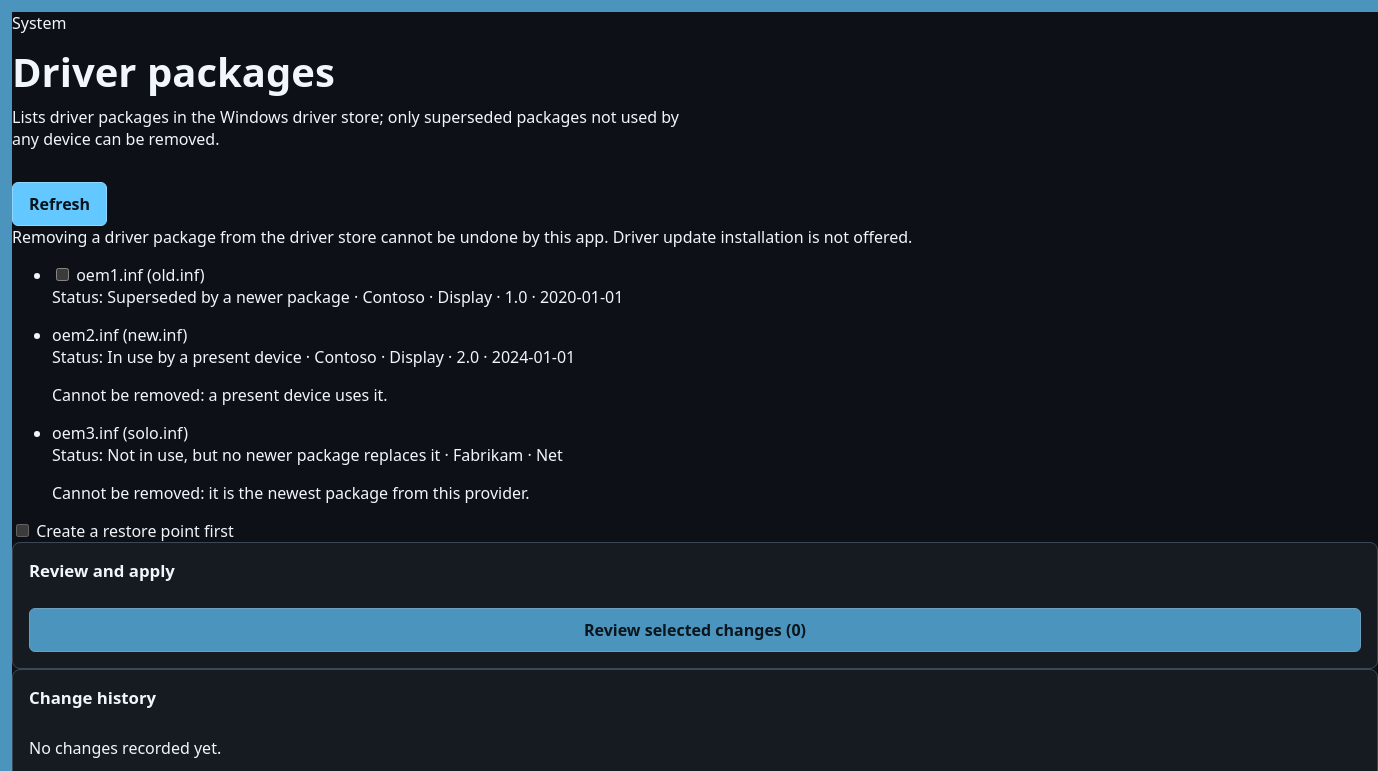
Scenario: re-checks the restore point by default after the selection is emptied and made again
Click the checkbox labelled "oem1.inf (old.inf)" at (62, 274), box 56,268 -> 69,281
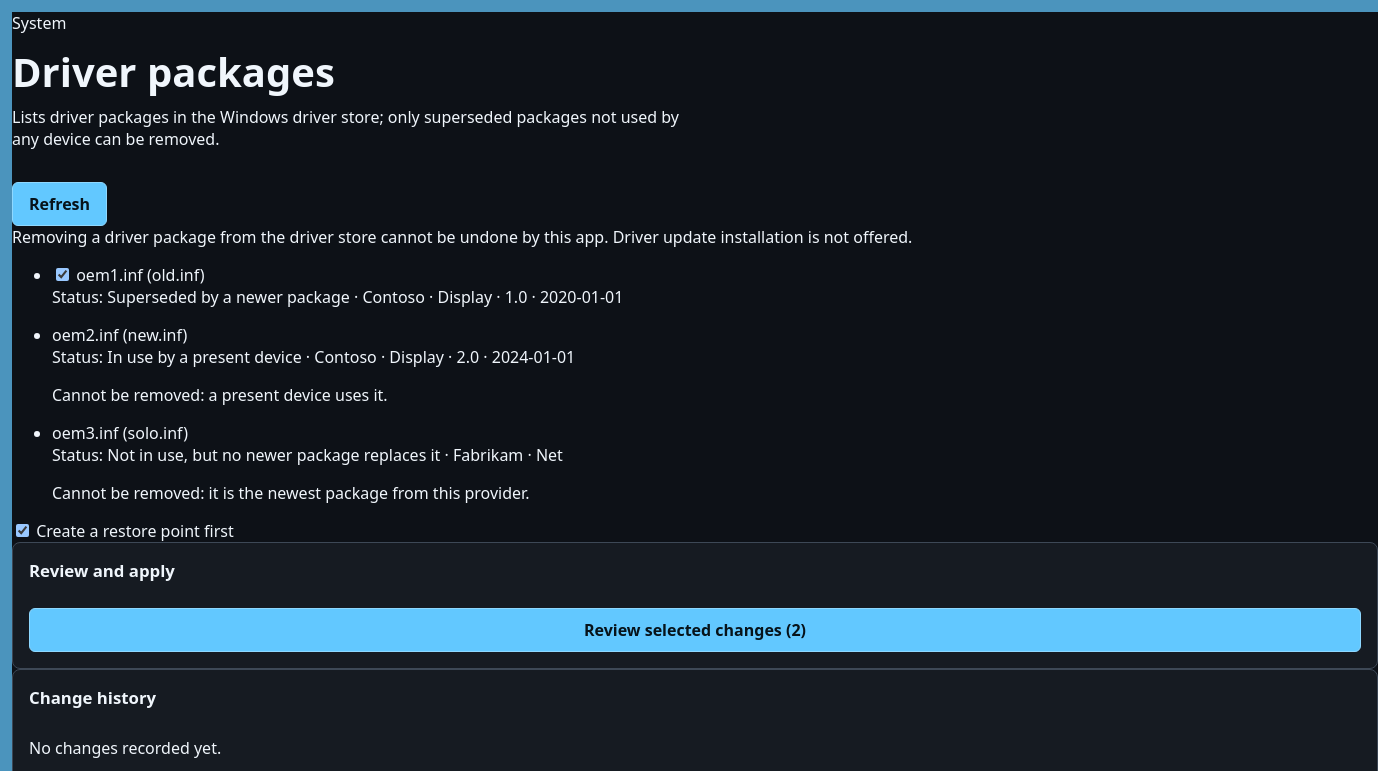
Click the checkbox labelled "Create a restore point first" at (22, 530), box 16,524 -> 29,537
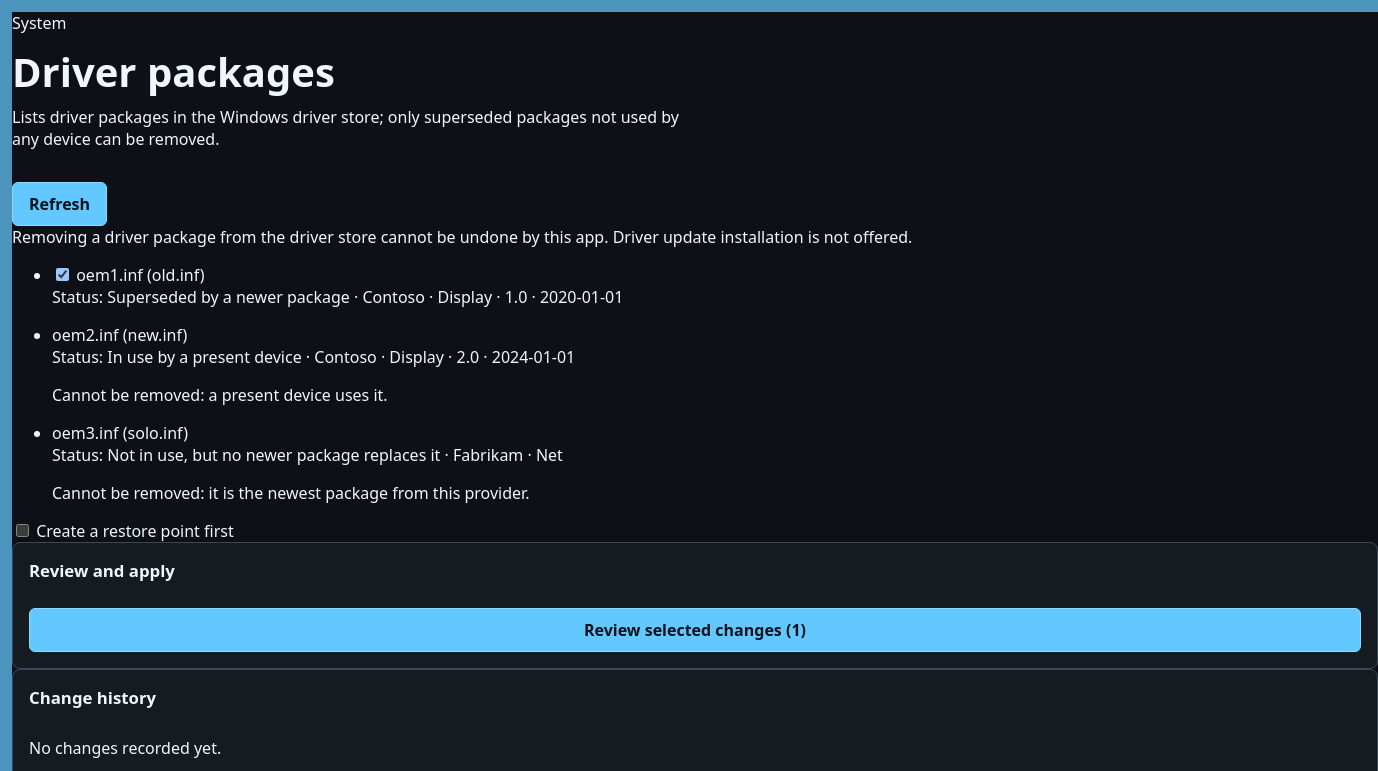
Expected: the checkbox labelled "Create a restore point first" is not checked, 16,524 -> 29,537
Click the checkbox labelled "oem1.inf (old.inf)" at (62, 274), box 56,268 -> 69,281
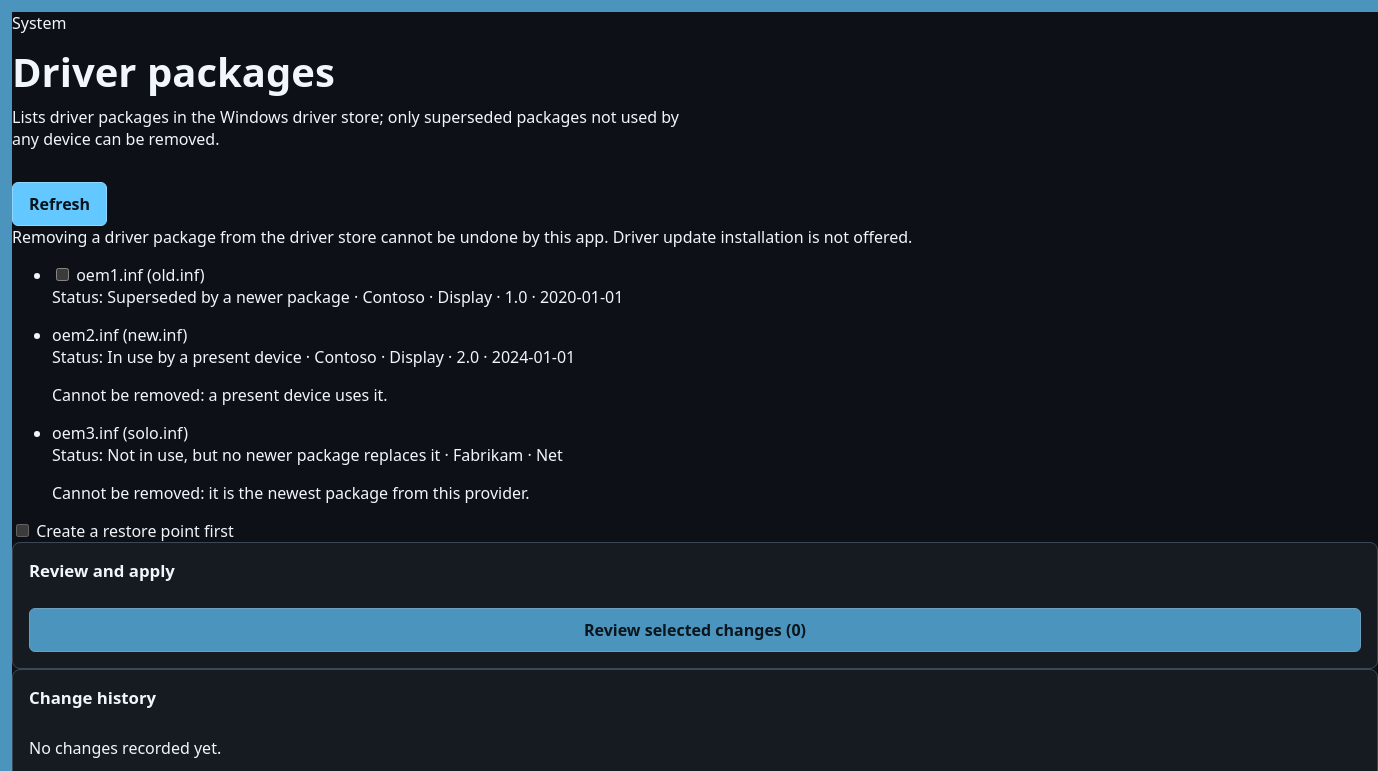
Expected: the checkbox labelled "Create a restore point first" is not checked, 16,524 -> 29,537
Click the checkbox labelled "oem1.inf (old.inf)" at (62, 274), box 56,268 -> 69,281
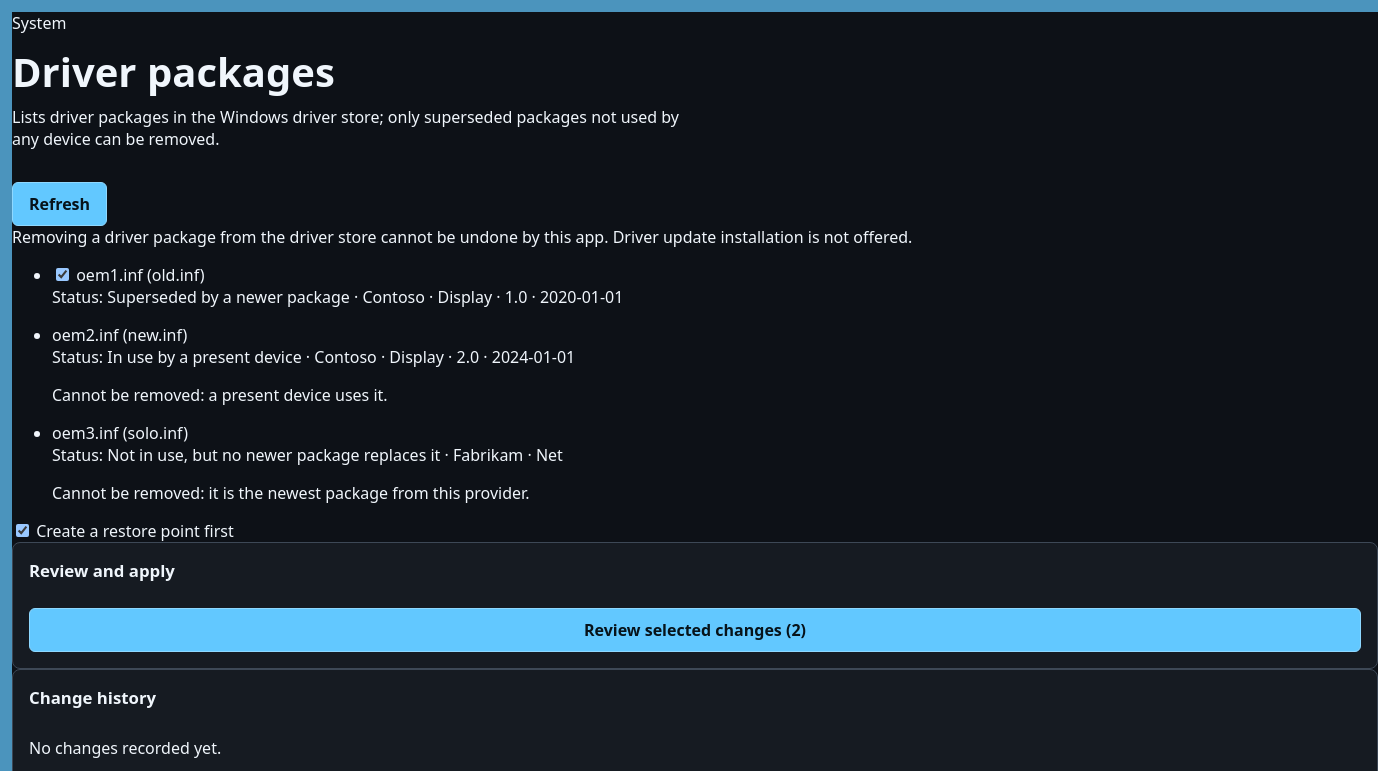
Expected: the checkbox labelled "Create a restore point first" is checked, 16,524 -> 29,537
Expected: the button "Review selected changes (2)" is shown, 29,608 -> 1361,652
